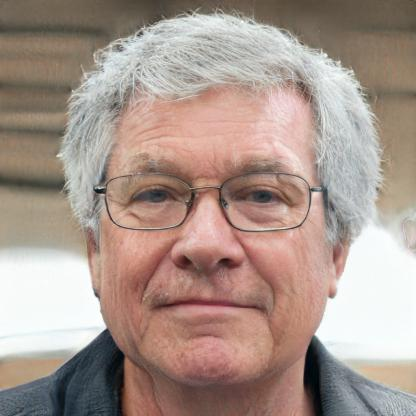glasses: (97, 170, 318, 238)
